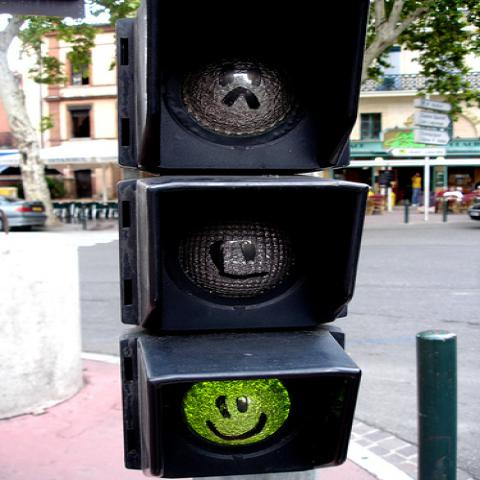car: (0, 194, 46, 228), (467, 202, 479, 220)
